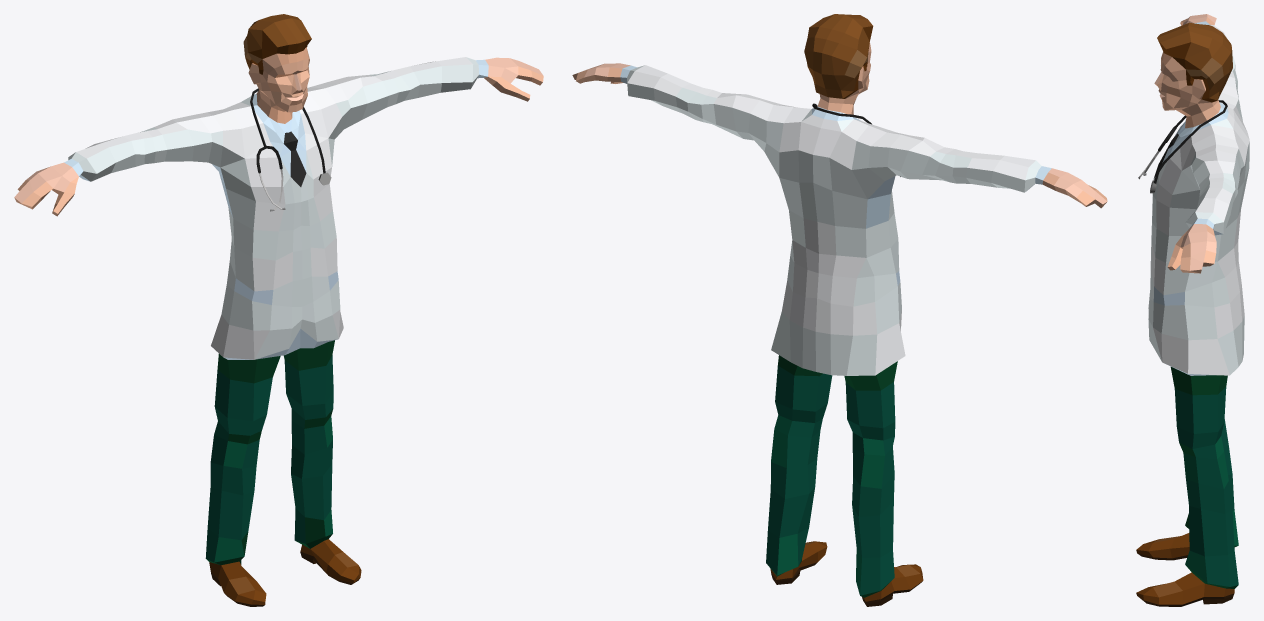
Rendered from Doctor_Male_B-model.fbx.
The picture shows the model from 3 angles, left to right: view 1: azimuth 30°, elevation 25°; view 2: azimuth 150°, elevation 25°; view 3: azimuth 270°, elevation 25°; orthographic projection. The views are drawn at different scales.
Visible parts, largest first — view 1: Doctor_Male_B, stetho; view 2: Doctor_Male_B; view 3: Doctor_Male_B, stetho.
Part boxes in pixels (<box>): Doctor_Male_B: <box>14,14,543,606</box>; stetho: <box>250,88,331,211</box>; Doctor_Male_B: <box>572,14,1107,606</box>; Doctor_Male_B: <box>1136,14,1249,606</box>; stetho: <box>1138,100,1227,193</box>.
Size of the model in its own units: 168 by 171 by 31.91.
Materials: 1 (1 with a texture image).
